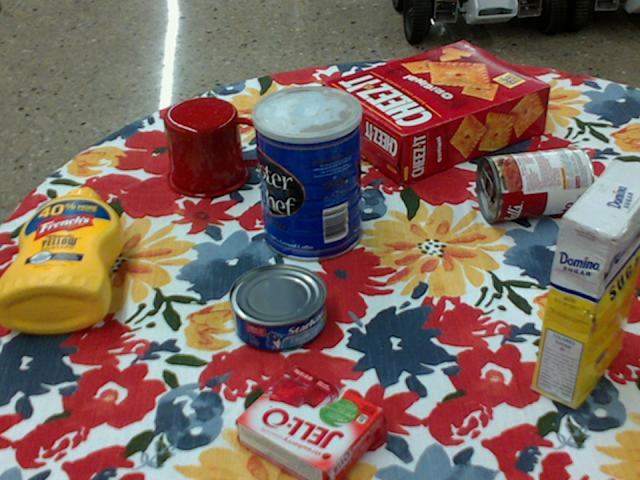cracker_box: (324, 43, 551, 186)
gelatin_box: (238, 368, 388, 479)
master_chef_can: (252, 84, 362, 261)
mug: (163, 97, 269, 198)
mustard_bottle: (0, 187, 124, 333)
sugar_box: (533, 159, 639, 410)
tomato_soup_can: (477, 145, 595, 222)
tuna_fish_can: (229, 264, 327, 353)
